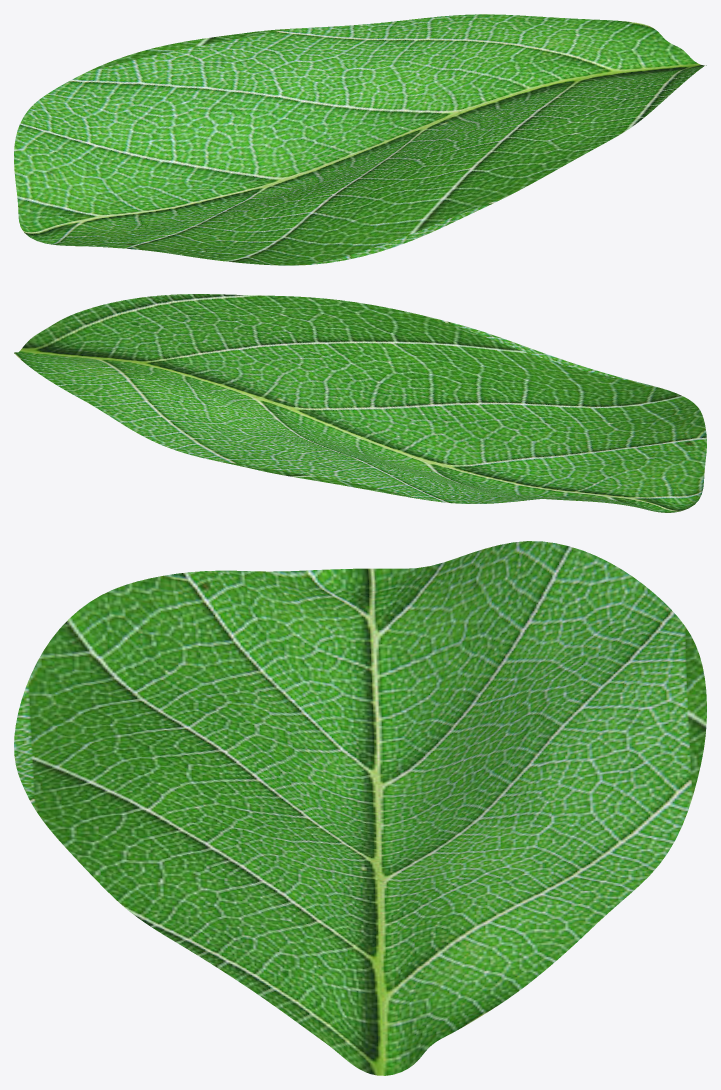
File: leaf_c1.glb
3 views of the same model, one above another, from view 1: azimuth 30°, elevation 25°; view 2: azimuth 150°, elevation 25°; view 3: azimuth 270°, elevation 25° (orthographic). The views are drawn at different scales.
Parts seen in each view (by area): view 1: Circle.010; view 2: Circle.010; view 3: Circle.010.
Part boxes in pixels (box(x1,y1,x2,y2)): Circle.010: box(14, 14, 706, 265); Circle.010: box(14, 294, 706, 512); Circle.010: box(14, 541, 706, 1075).
Size of the model in its own units: 0.9999 by 0.086 by 0.5781.
1 material, 1 textured.
